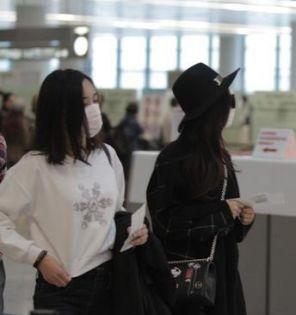OK: (69, 91, 107, 137)
